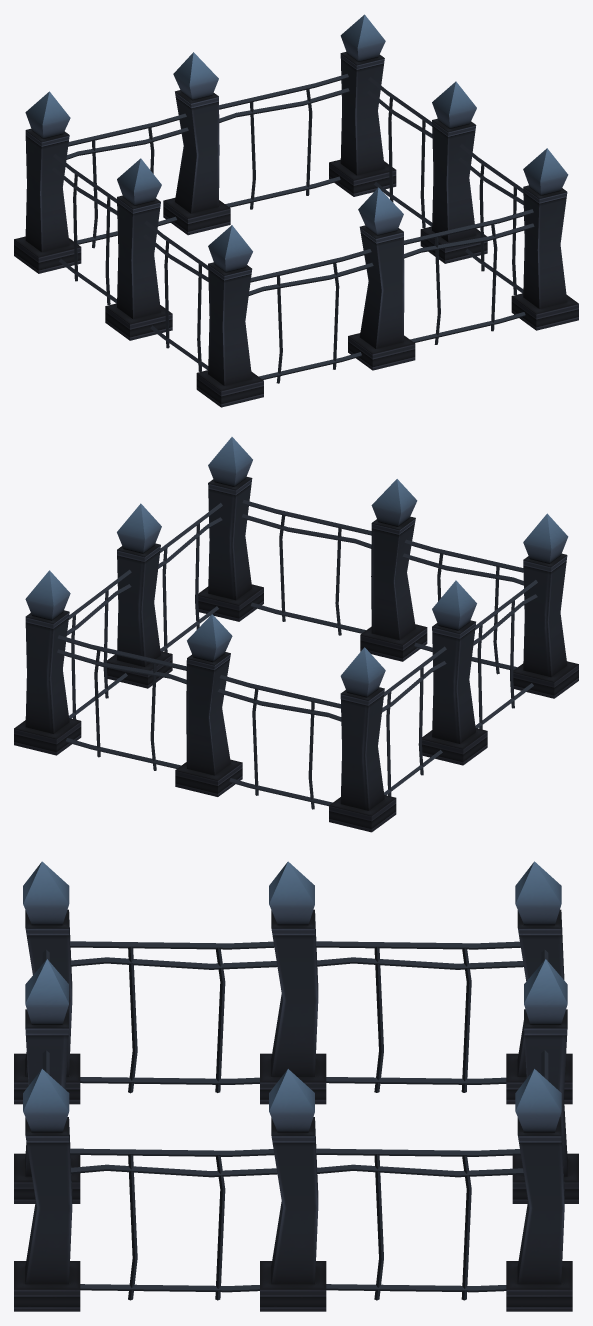
The model's file is GraveYard_Fence_02.FBX.
3 views of the same model, one above another, from view 1: azimuth 30°, elevation 25°; view 2: azimuth 150°, elevation 25°; view 3: azimuth 270°, elevation 25° (orthographic). The views are drawn at different scales.
Parts seen in each view (by area): view 1: GraveYard_Fence_02; view 2: GraveYard_Fence_02; view 3: GraveYard_Fence_02.
Part boxes in pixels (x1,y1,x2,y2): GraveYard_Fence_02: [14, 14, 578, 407]; GraveYard_Fence_02: [14, 437, 578, 832]; GraveYard_Fence_02: [14, 861, 578, 1311].
Size of the model in its own units: 162 by 73.72 by 164.
